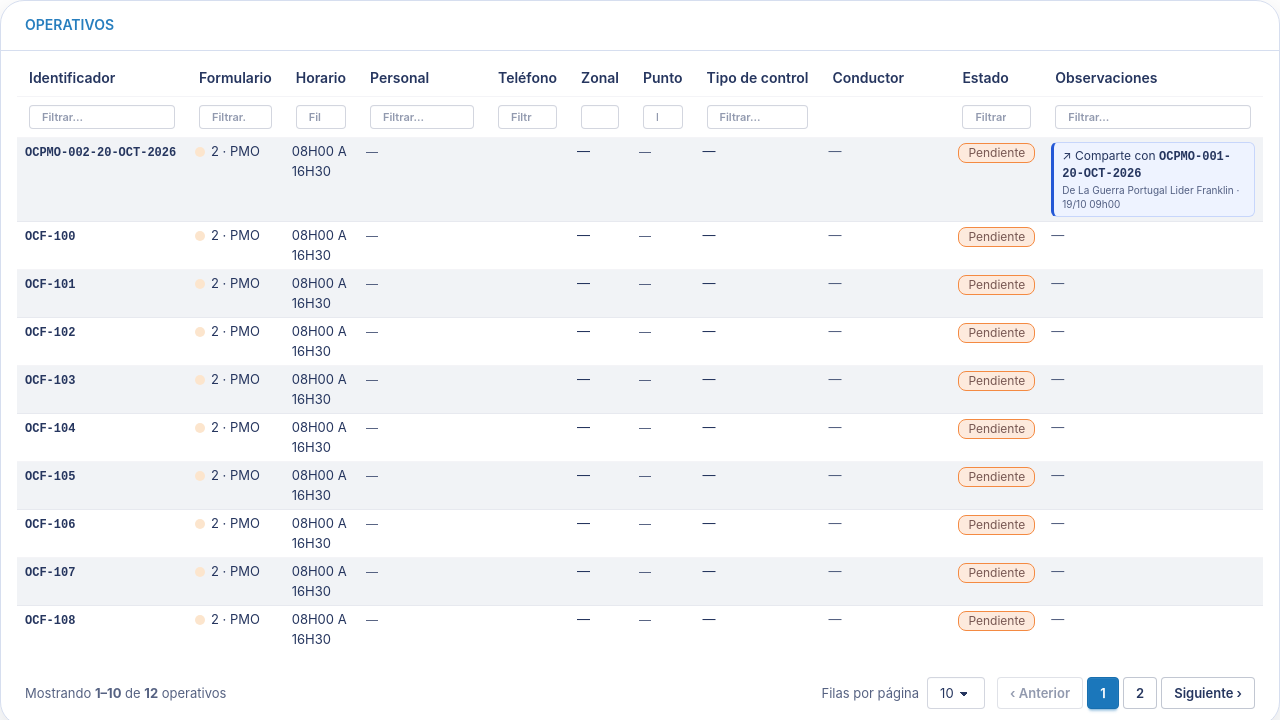
Scenario: notas en las tablas de Registro y Mis operativos › si el operativo compartido está en otra página, la tabla salta a ella, lo centra y lo hace destellar
The image size is (1280, 720).
Click the button with aria-label "Ir al operativo OCPMO-001-20-OCT-2026": (1153,180) [1051,142,1255,218]
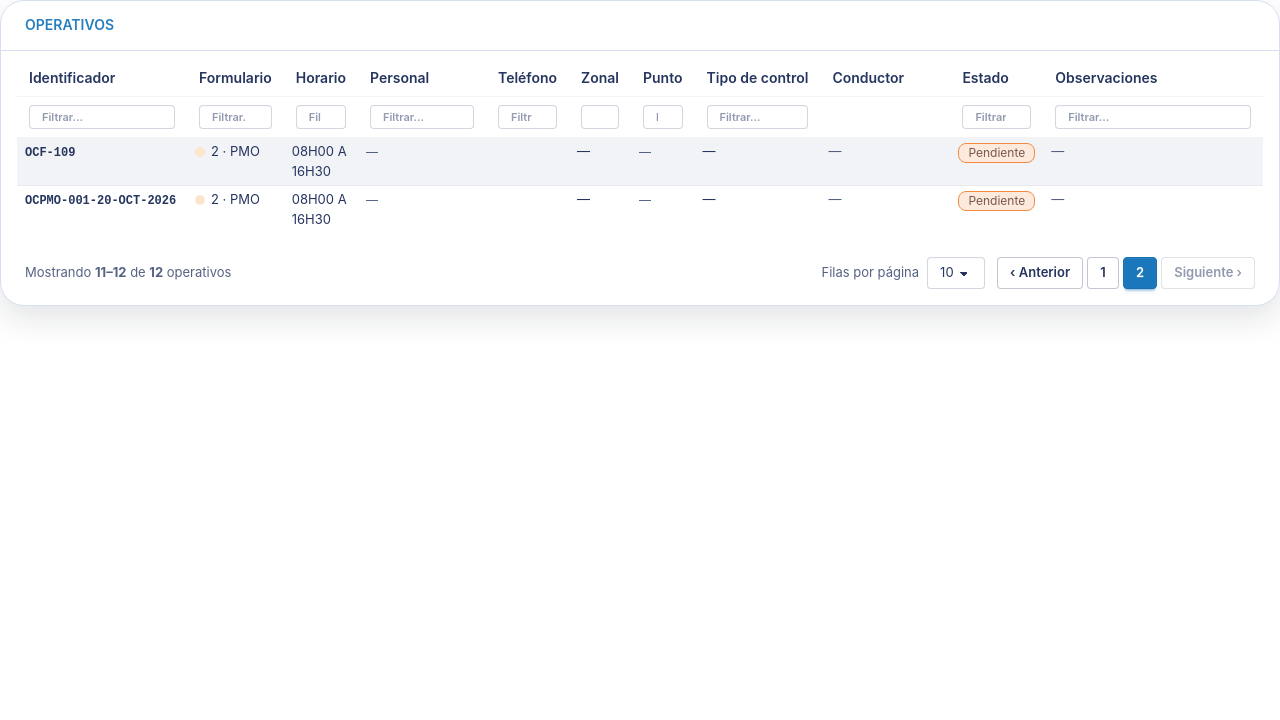
Now the row that starts with "OCPMO-001-20-OCT-2026" is shown, box [17,186,1263,233]
